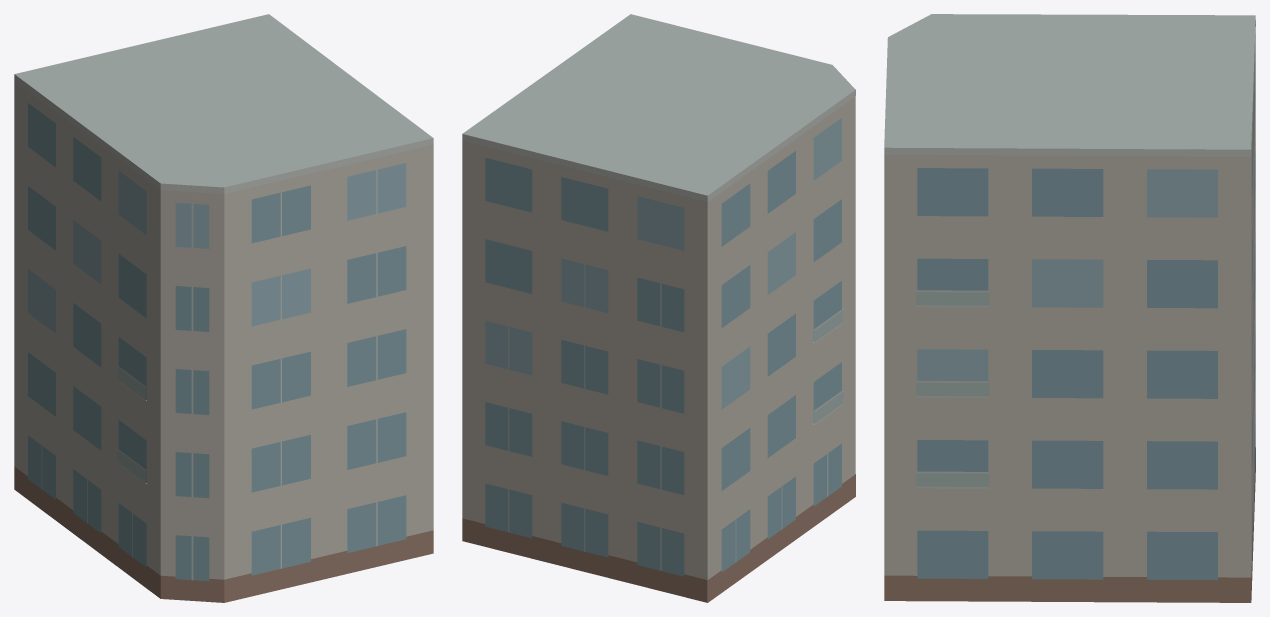
Rendered from survey-upis-32875486.glb.
3 views of the same model, side by side, from view 1: azimuth 30°, elevation 25°; view 2: azimuth 150°, elevation 25°; view 3: azimuth 270°, elevation 25° (orthographic). The views are drawn at different scales.
Parts seen in each view (by area): view 1: survey-upis-32875486.tmp; view 2: survey-upis-32875486.tmp; view 3: survey-upis-32875486.tmp.
Boxes of the visible parts, x1,y1,x2,y2 form: survey-upis-32875486.tmp: (14,14,433,602); survey-upis-32875486.tmp: (462,14,855,602); survey-upis-32875486.tmp: (884,14,1255,602).
Size of the model in its own units: 9.99 by 15.5 by 11.53.
